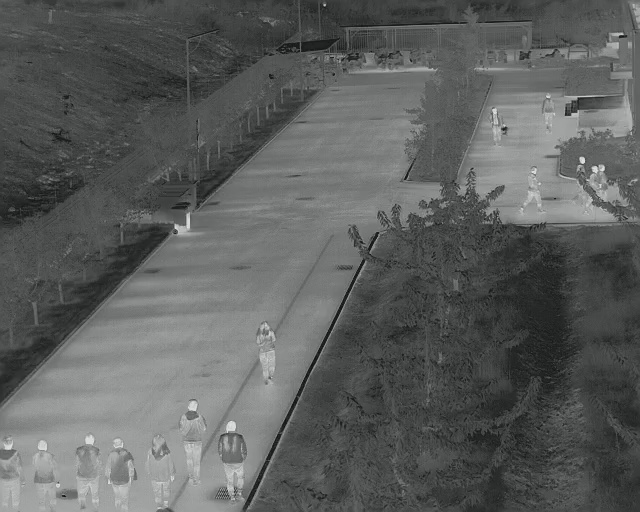person: (217, 420, 249, 506), (105, 437, 139, 512), (179, 398, 207, 488), (145, 434, 177, 512), (74, 433, 104, 512), (31, 440, 62, 512), (1, 436, 27, 512), (255, 319, 278, 386), (519, 165, 547, 214), (488, 105, 508, 150), (570, 156, 587, 205), (541, 91, 557, 134), (590, 162, 608, 199)
